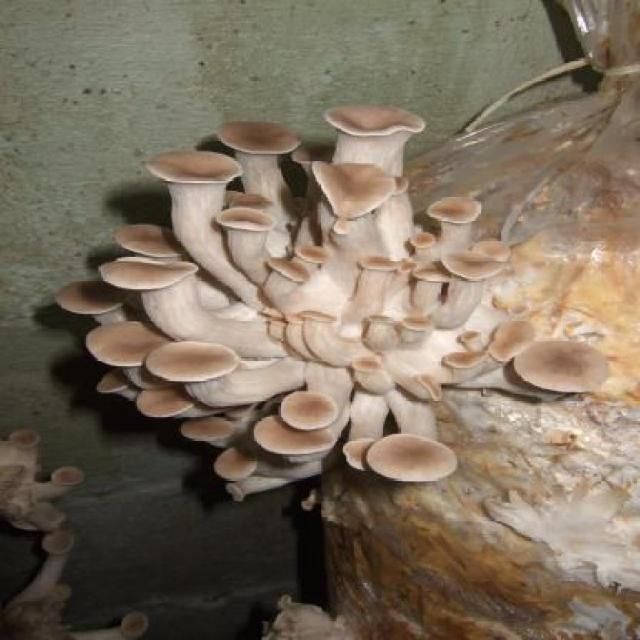Mushroom: (57, 107, 608, 502), (0, 427, 147, 640), (250, 596, 352, 638)
